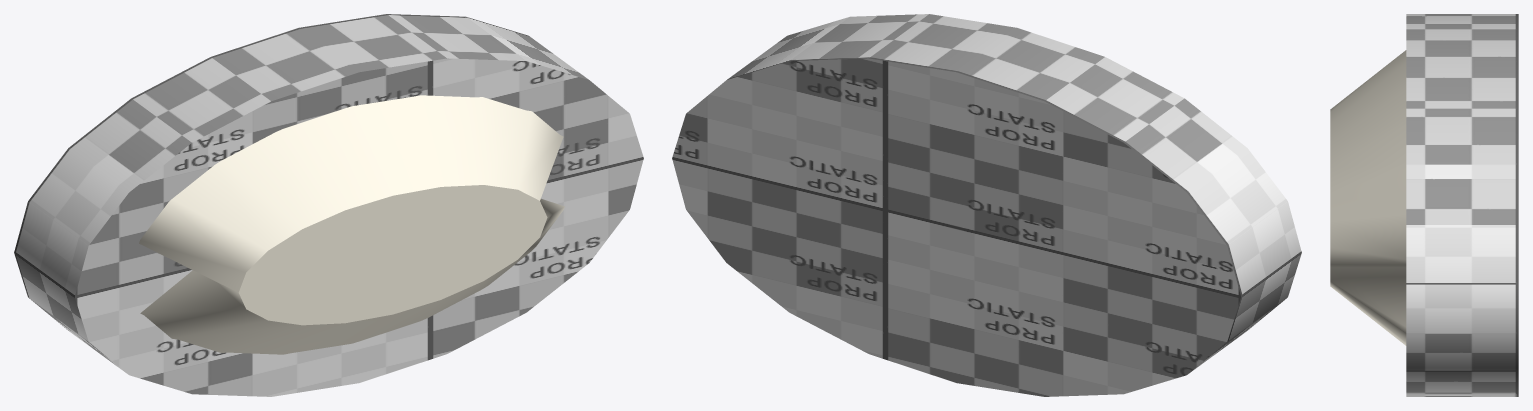
File: Marine Light.fbx
3 renders of one model, left to right at view 1: azimuth 30°, elevation 25°; view 2: azimuth 150°, elevation 25°; view 3: azimuth 270°, elevation 25°, orthographic. The views are drawn at different scales.
Visible parts, largest first — view 1: Marine_Light, Cylinder__1_; view 2: Marine_Light; view 3: Marine_Light, Cylinder__1_.
Part boxes in pixels (<box>): Marine_Light: <box>14,14,643,396</box>; Cylinder__1_: <box>139,95,564,354</box>; Marine_Light: <box>672,14,1301,396</box>; Marine_Light: <box>1406,14,1518,396</box>; Cylinder__1_: <box>1330,50,1406,345</box>.
Bounding box in the file's own units: 79.01 × 41.24 × 24.49.
